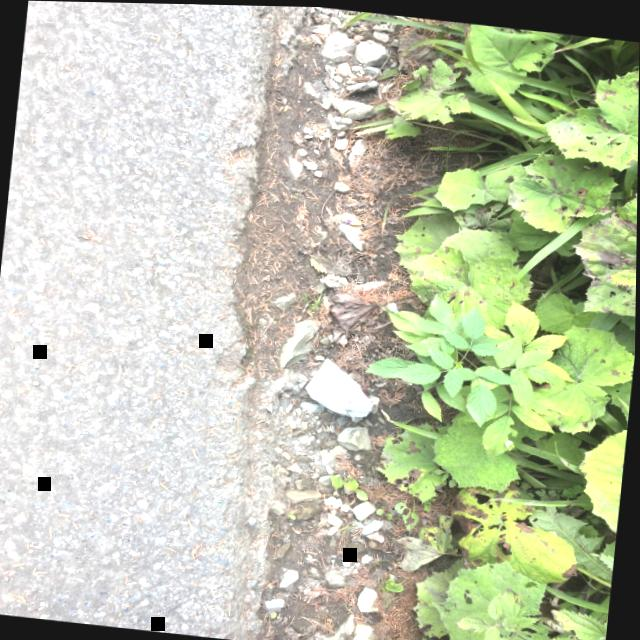Drink can: (305, 355, 377, 414)
